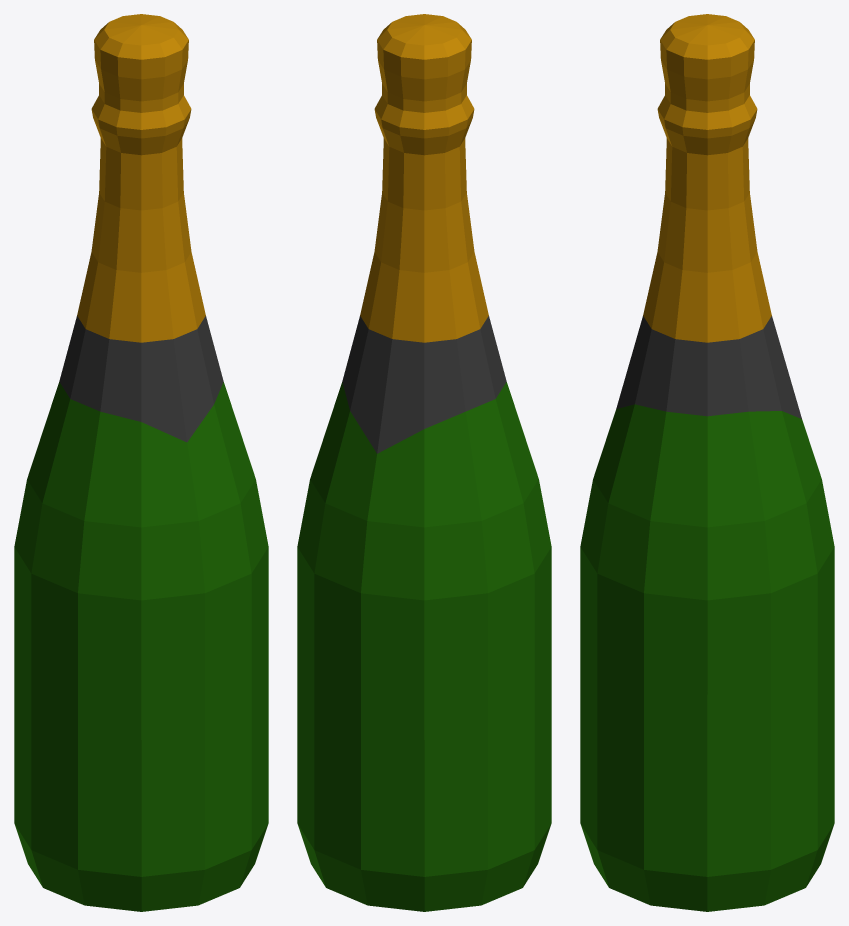
The model's file is ChampagneBottle.fbx.
3 views of the same model, side by side, from view 1: azimuth 30°, elevation 25°; view 2: azimuth 150°, elevation 25°; view 3: azimuth 270°, elevation 25° (orthographic).
Visible parts, largest first — view 1: ChampagneBottle; view 2: ChampagneBottle; view 3: ChampagneBottle.
Part boxes in pixels (<box>): ChampagneBottle: <box>14,14,268,911</box>; ChampagneBottle: <box>297,14,551,911</box>; ChampagneBottle: <box>580,14,834,911</box>.
Bounding box in the file's own units: 11.85 × 43.15 × 11.85.
